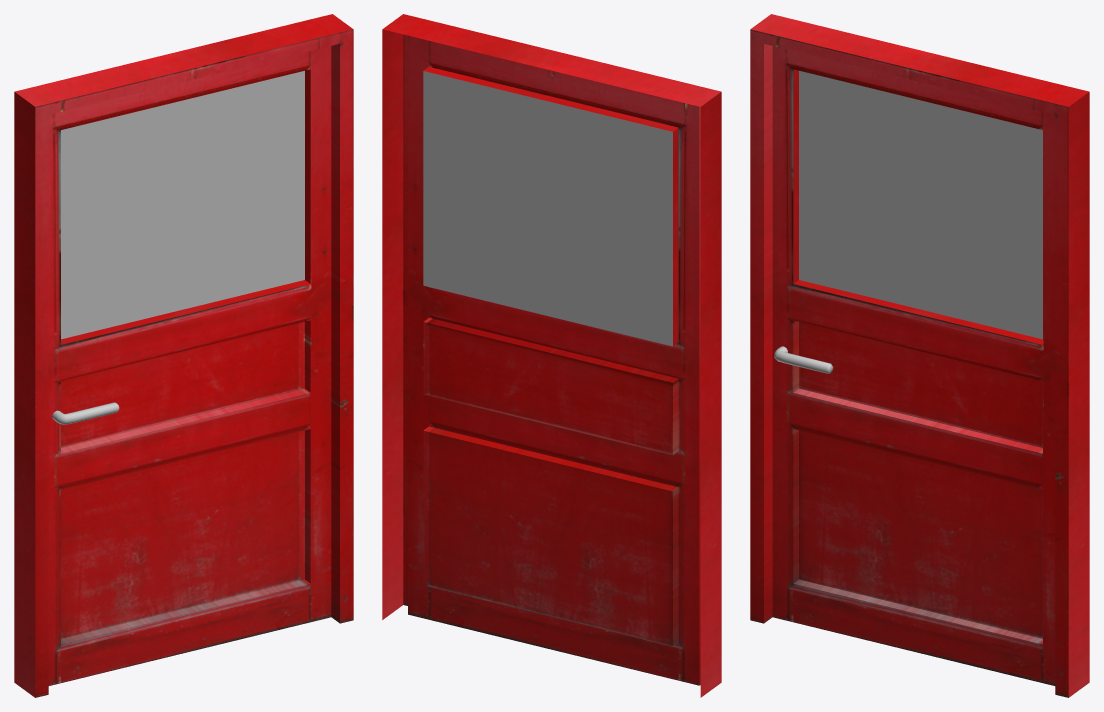
Rendered from door_2.fbx.
3 renders of one model, left to right at view 1: azimuth 30°, elevation 25°; view 2: azimuth 150°, elevation 25°; view 3: azimuth 330°, elevation 25°, orthographic.
Parts seen in each view (by area): view 1: door_2; view 2: door_2; view 3: door_2.
Boxes of the visible parts, x1,y1,x2,y2 form: door_2: [14, 14, 353, 697]; door_2: [382, 14, 721, 697]; door_2: [750, 14, 1089, 697].
Bounding box in the file's own units: 2.09 × 3.7 × 0.2736.
